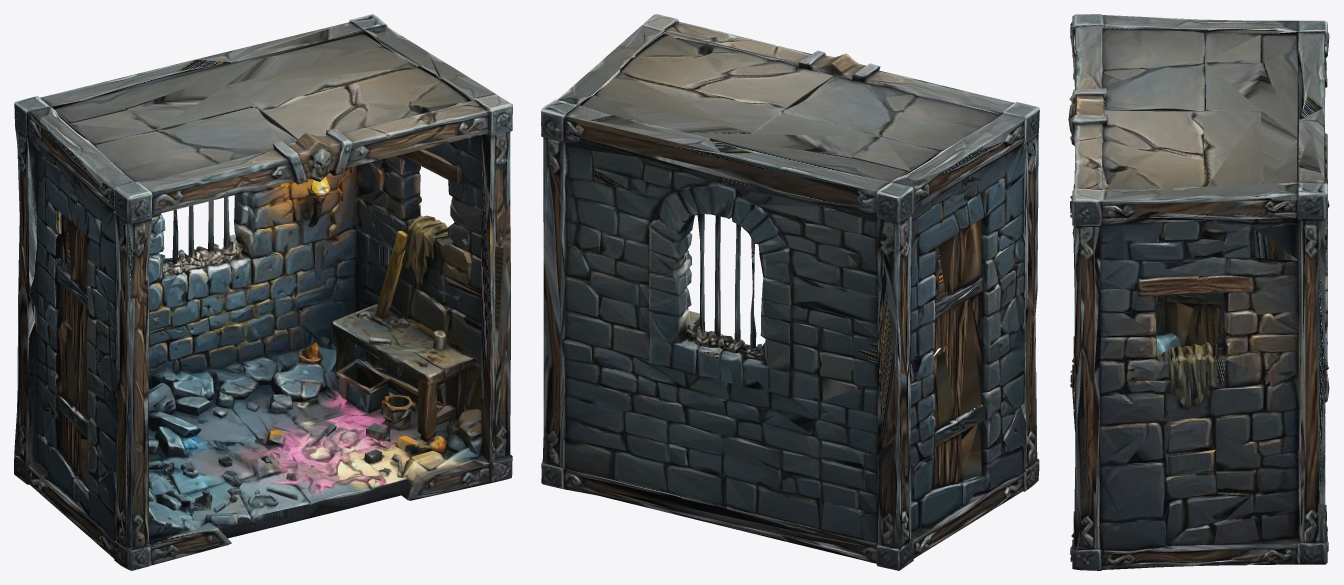
File: masmorra.glb
The picture shows the model from 3 angles, left to right: view 1: azimuth 30°, elevation 25°; view 2: azimuth 150°, elevation 25°; view 3: azimuth 270°, elevation 25°; orthographic projection.
Visible parts, largest first — view 1: plush; view 2: plush; view 3: plush.
Part boxes in pixels (x1,y1,x2,y2): plush: (14,14,512,570); plush: (541,14,1039,570); plush: (1068,14,1329,570).
Bounding box in the file's own units: 0.98 × 0.9261 × 0.5772.
1 material, 1 textured.
